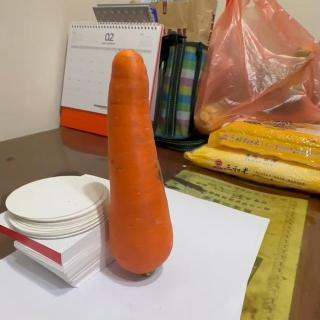carrot: (107, 47, 175, 275)
